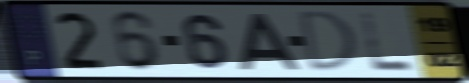2: (54, 10, 105, 71)
6: (109, 8, 164, 74), (180, 11, 232, 72)
A: (237, 11, 303, 71)
D: (297, 9, 360, 74)
L: (359, 10, 419, 73)
